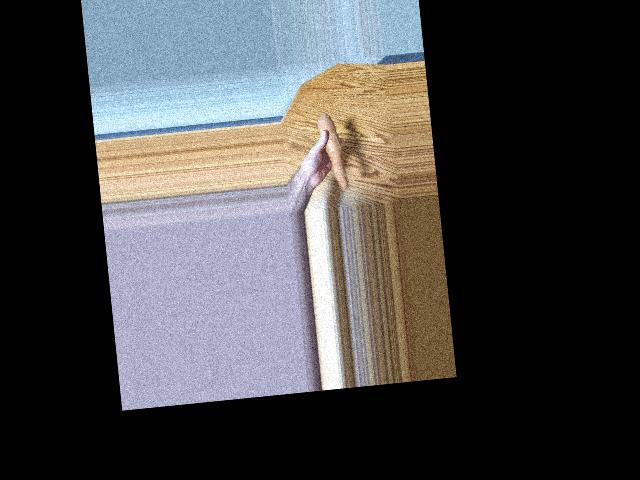sweet_potato: (323, 113, 345, 190)
